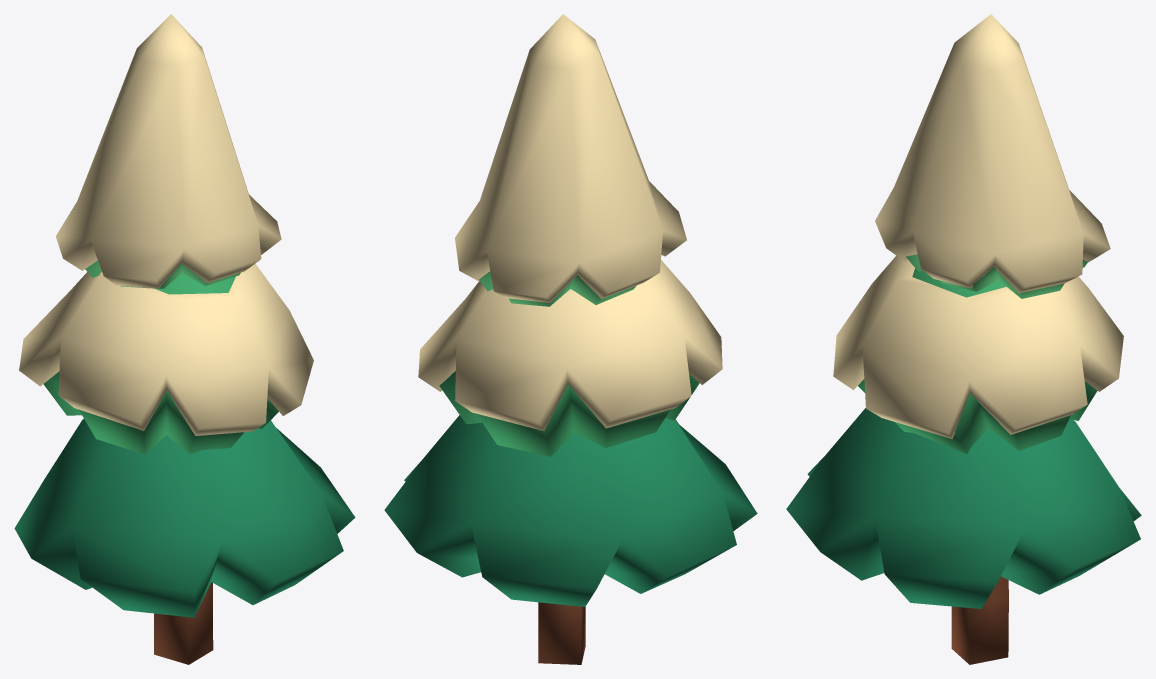
Rendered from treesnow3.fbx.
3 renders of one model, left to right at view 1: azimuth 30°, elevation 25°; view 2: azimuth 150°, elevation 25°; view 3: azimuth 270°, elevation 25°, orthographic.
Visible parts, largest first — view 1: tree1.001; view 2: tree1.001; view 3: tree1.001.
Part boxes in pixels (x1,y1,x2,y2): tree1.001: (14,14,355,664); tree1.001: (384,14,757,664); tree1.001: (786,14,1141,664).
Size of the model in its own units: 38.46 by 76.01 by 38.4.
